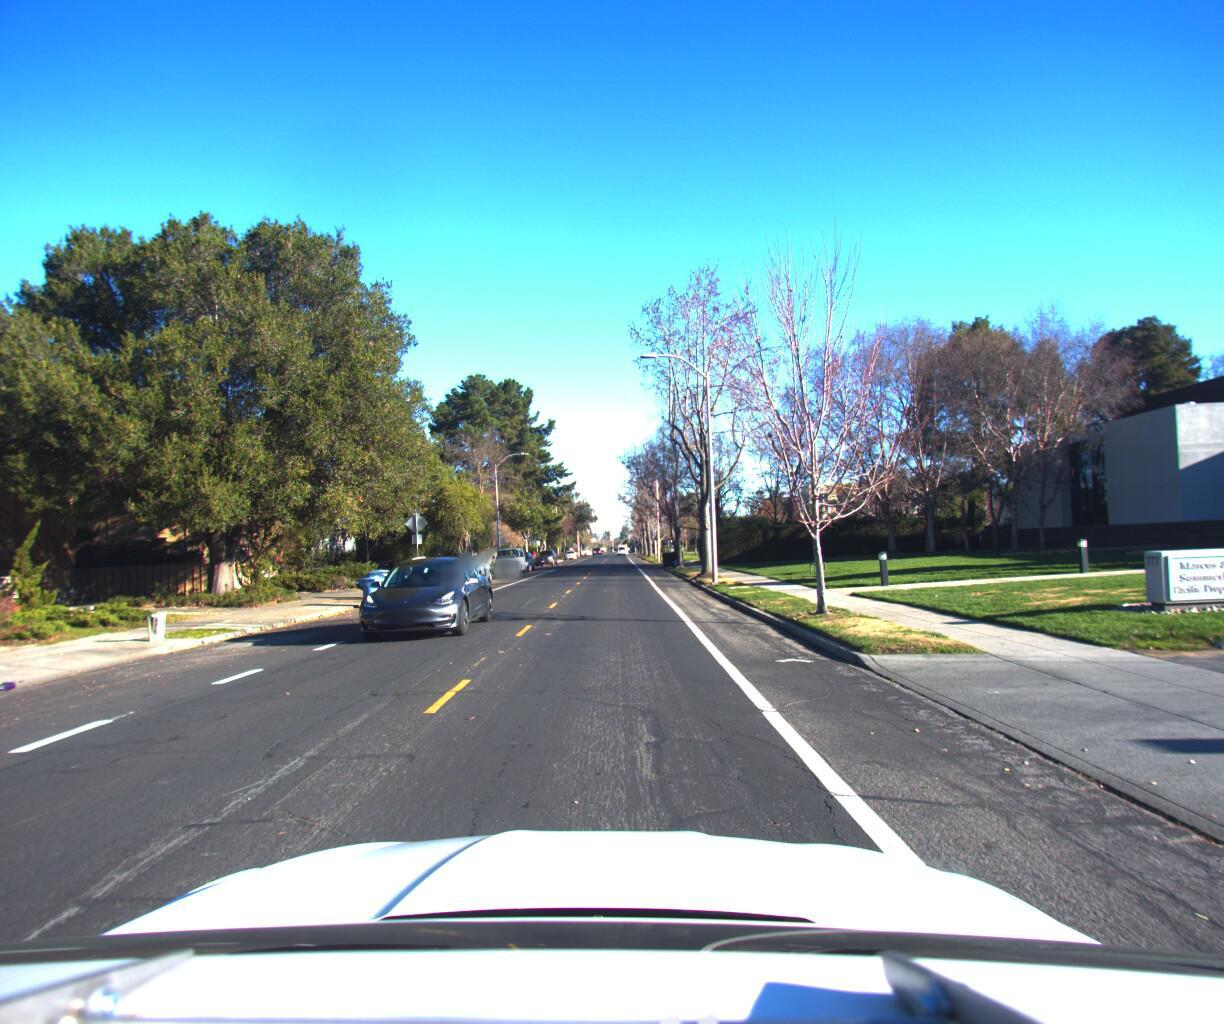bicycle: (50, 570, 91, 607)
car: (351, 551, 497, 642), (436, 552, 496, 587), (491, 542, 528, 574)
